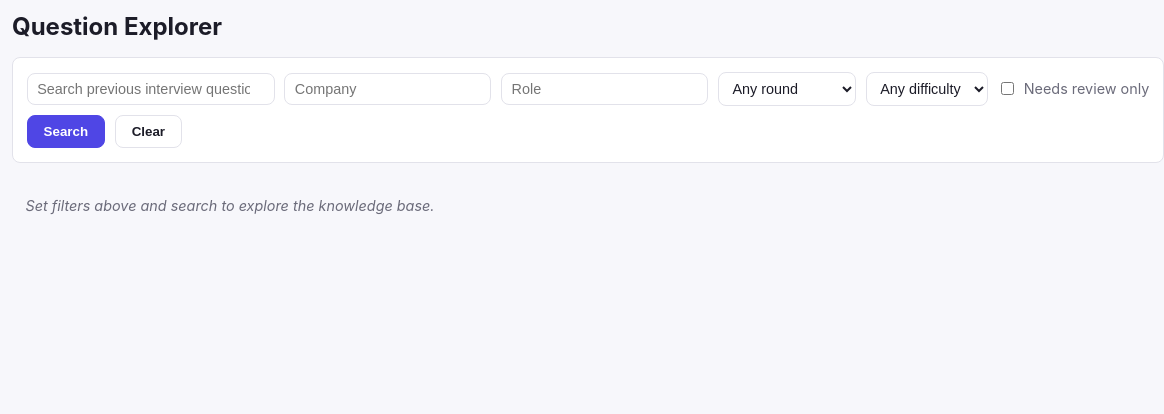
Scenario: QuestionExplorerPage › renders matching questions with provenance and review badges after a search
Click the button "Search": click(66, 132) [27,116,105,148]
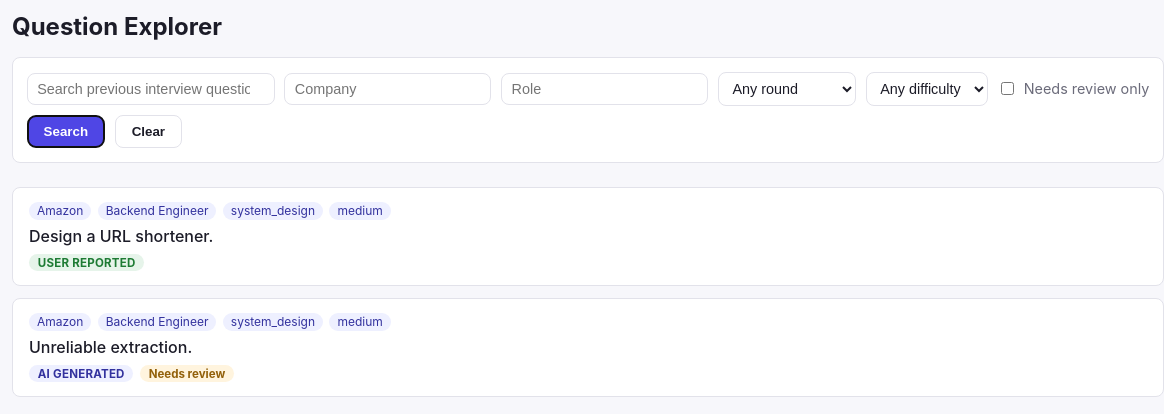
Check: the text "Design a URL shortener." is shown, box [29,226,213,246]
Check: the text "Unreliable extraction." is shown, box [29,337,192,357]
Check: the text "User Reported" is shown, box [29,254,144,271]
